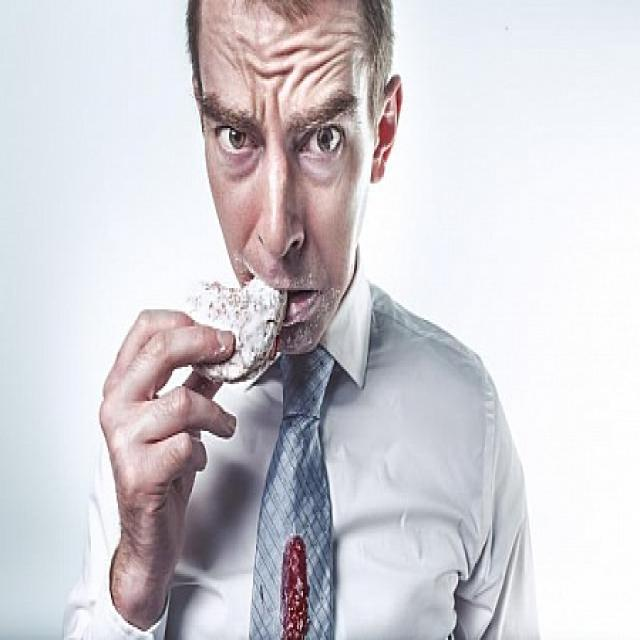Eyes: (200, 110, 363, 164)
